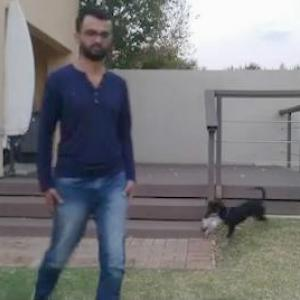follow: (44, 4, 157, 299)
